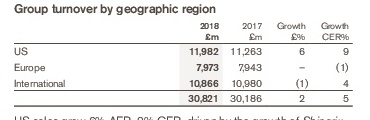table: (0, 0, 370, 120)
